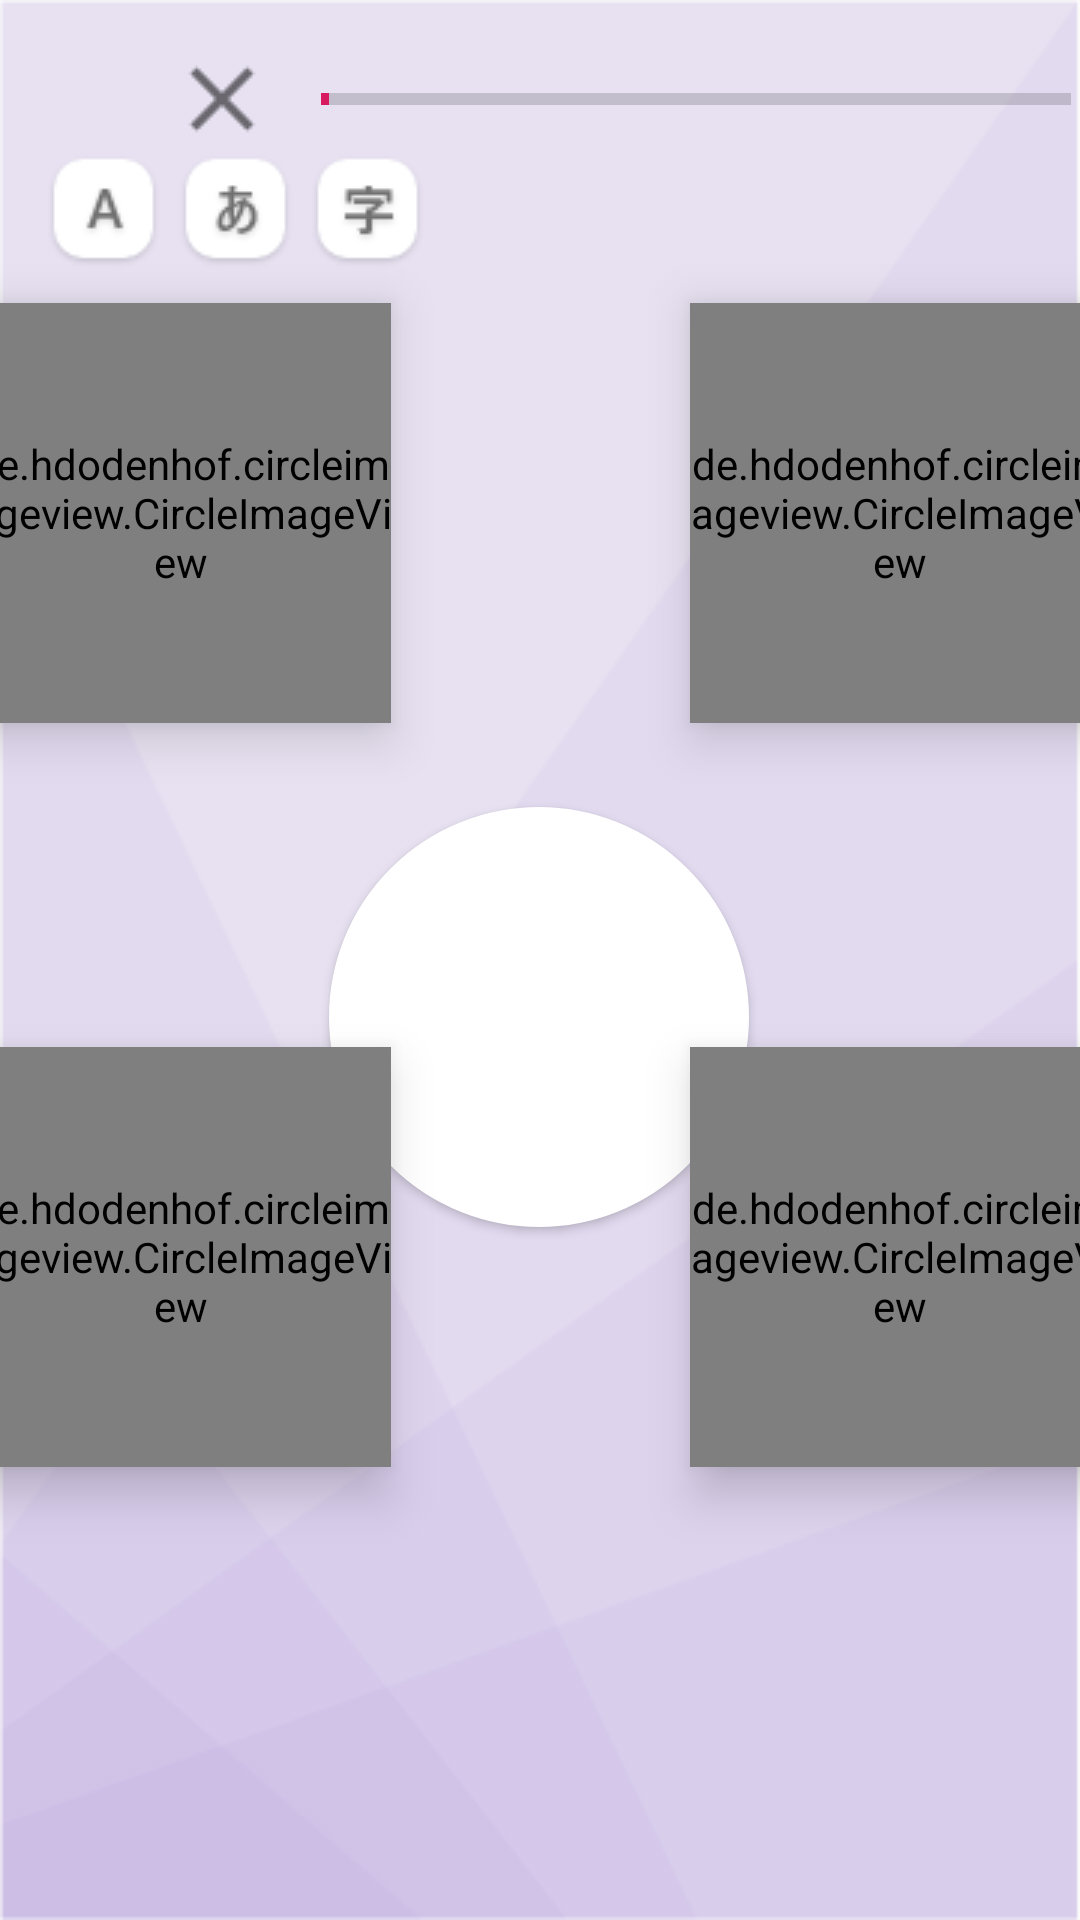

Locate icon controls on the screen. Image size 1080px×1920px, boxes as (x1, y1, x2, y2).
character kana fragment card: (187, 160, 284, 260)
character kanji fragment card: (319, 160, 416, 260)
character romaji fragment card: (55, 160, 152, 260)
close fragment card: (190, 67, 254, 131)
